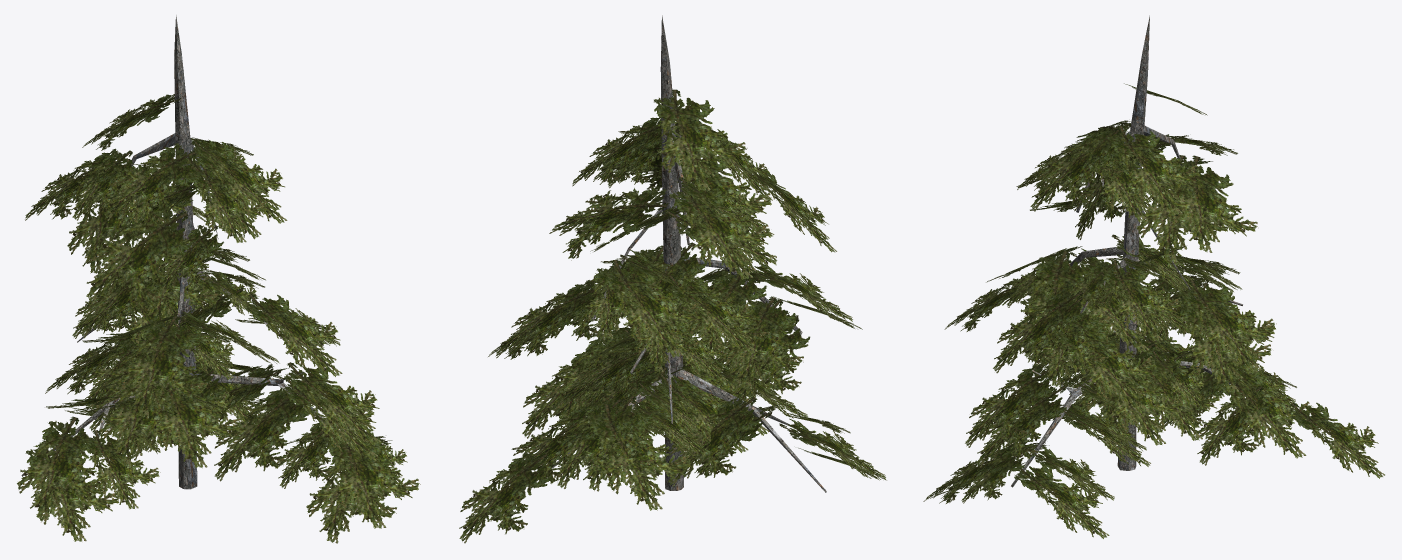
File: pine-lod.glb
3 renders of one model, left to right at view 1: azimuth 30°, elevation 25°; view 2: azimuth 150°, elevation 25°; view 3: azimuth 270°, elevation 25°, orthographic. The views are drawn at different scales.
Visible parts, largest first — view 1: 5_pngaaa.com-2004453_0, 5_bark-2_0; view 2: 5_pngaaa.com-2004453_0, 5_bark-2_0; view 3: 5_pngaaa.com-2004453_0, 5_bark-2_0.
Part boxes in pixels (x1,y1,x2,y2): 5_pngaaa.com-2004453_0: (17, 94, 420, 543); 5_bark-2_0: (21, 15, 339, 489); 5_pngaaa.com-2004453_0: (459, 89, 886, 543); 5_bark-2_0: (551, 15, 826, 492); 5_pngaaa.com-2004453_0: (923, 83, 1384, 538); 5_bark-2_0: (1011, 15, 1242, 487).
Size of the model in its own units: 7.13 by 8.81 by 8.16.
2 materials, 2 textured.
